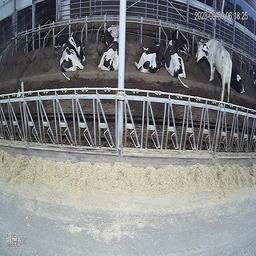cow: (196, 38, 235, 101), (56, 35, 89, 75), (134, 36, 163, 73), (164, 38, 188, 80), (95, 30, 118, 72), (230, 59, 247, 91), (172, 28, 190, 58), (53, 27, 74, 49)
